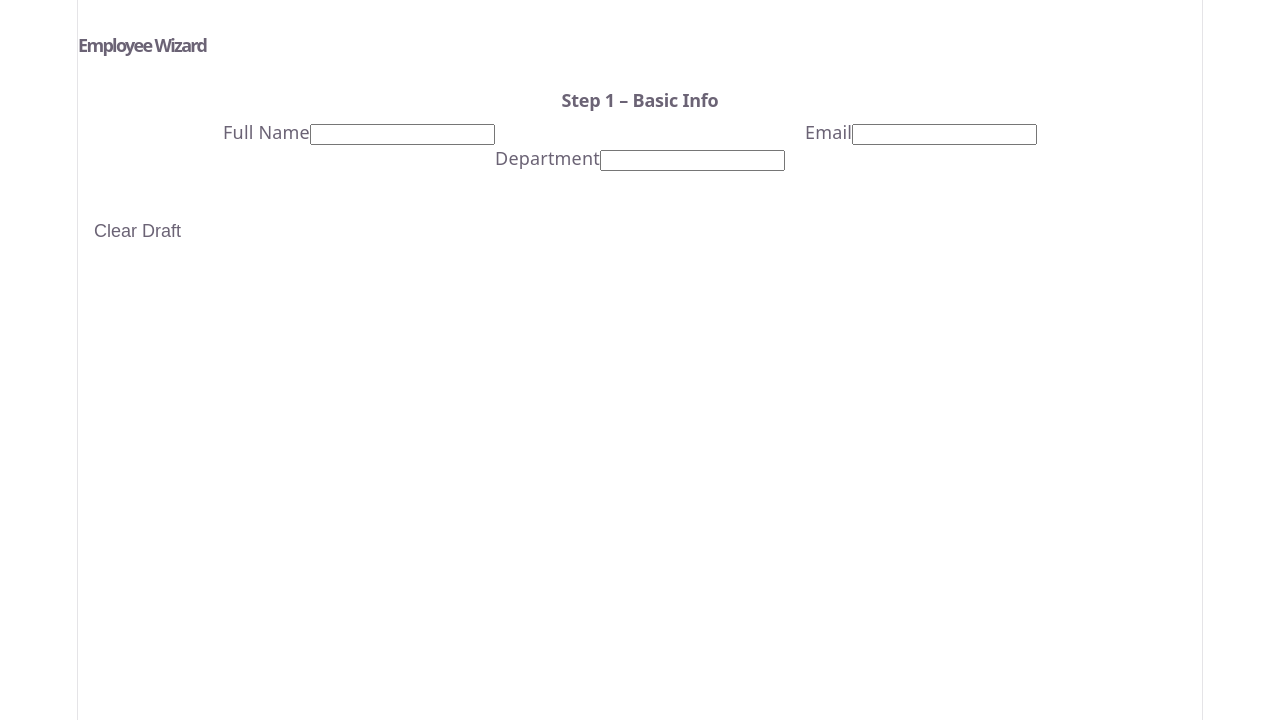
Test case: Submit flow › submits basicInfo then details and shows progress messages
The width and height of the screenshot is (1280, 720).
Fill Step 1
In the field labelled "Full Name": x=402, y=135 [310,124,495,145], type "John Doe"
In the field labelled "Email": x=945, y=135 [852,124,1037,145], type "john@example.com"
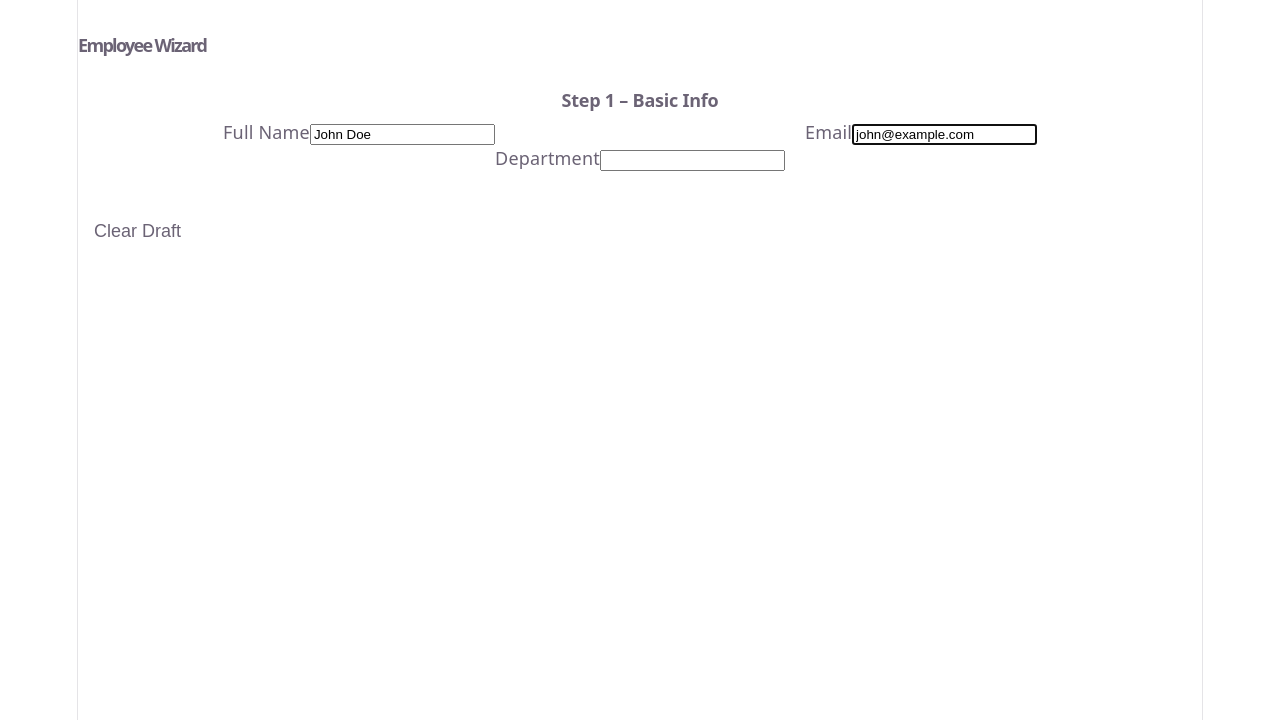
In the field labelled "Department": x=692, y=161 [600,150,785,171], type "Engineering"
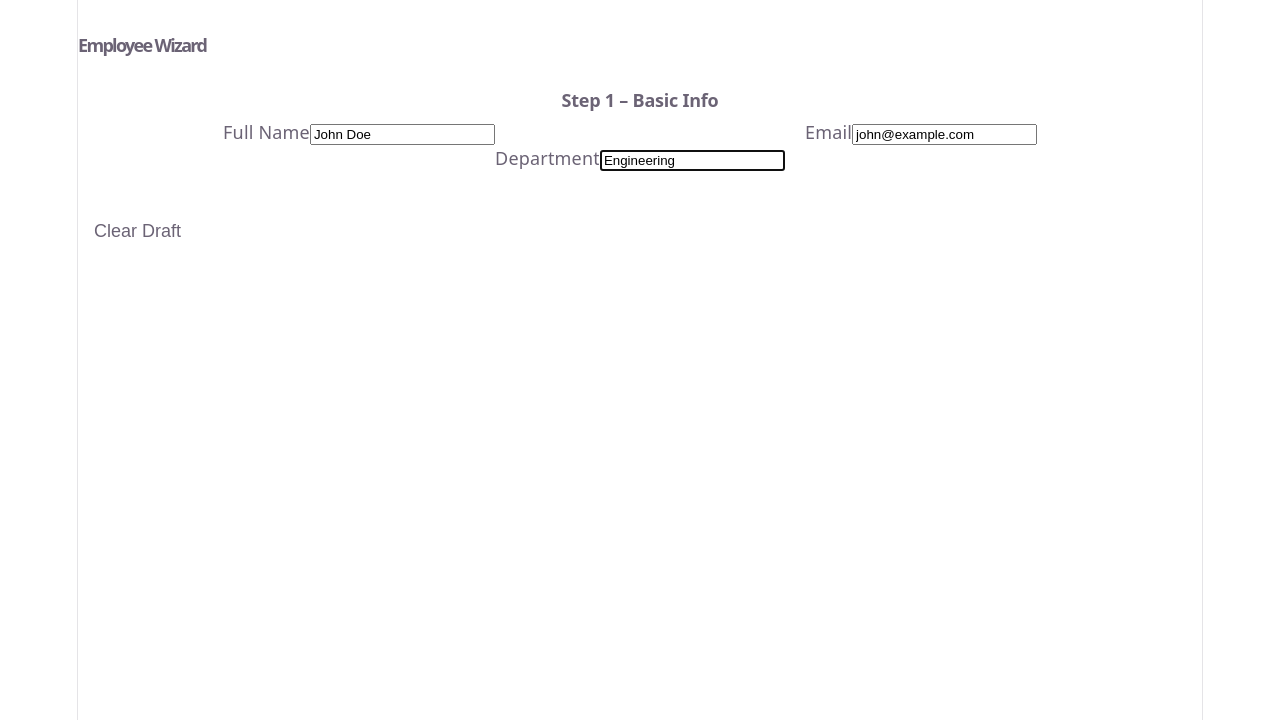
Click the button "Next": x=1150, y=192 [1099,172,1202,212]
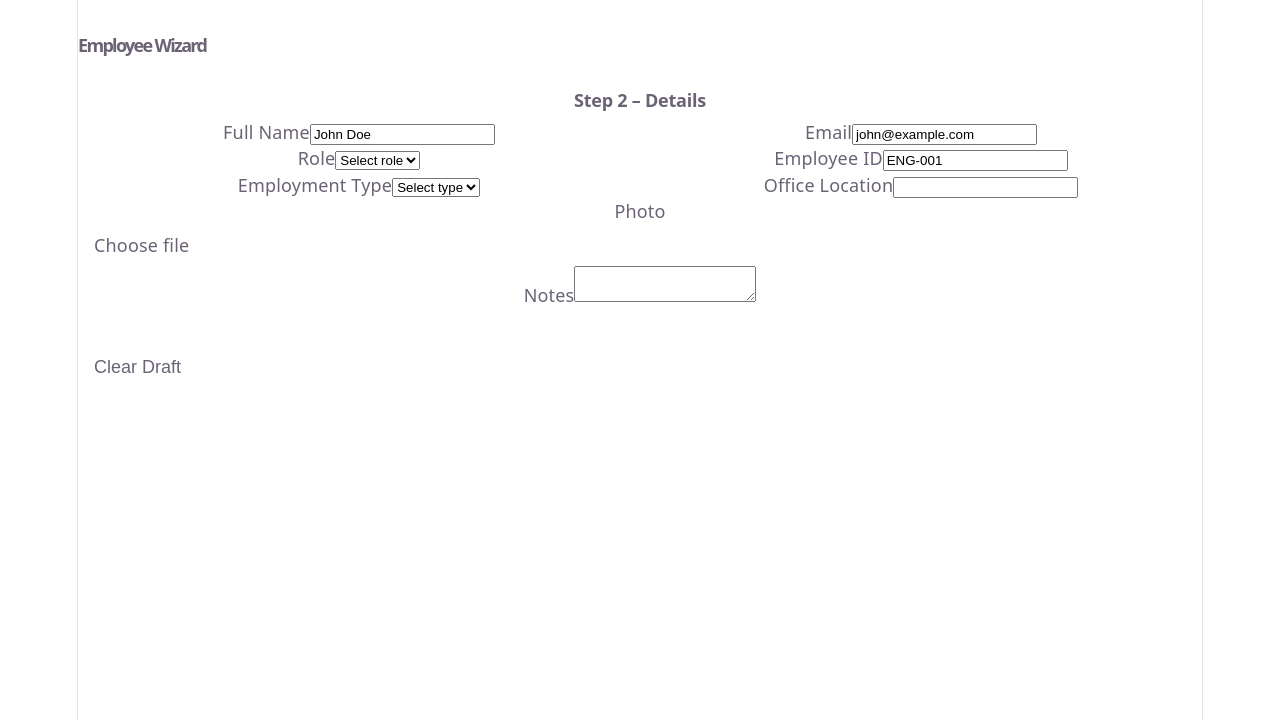
Fill Step 2 minimal valid fields
Select "Ops" in the dropdown labelled "Role": x=378, y=161 [335,151,420,170]
Select "Full-time" in the dropdown labelled "Employment Type": x=436, y=187 [392,178,480,196]
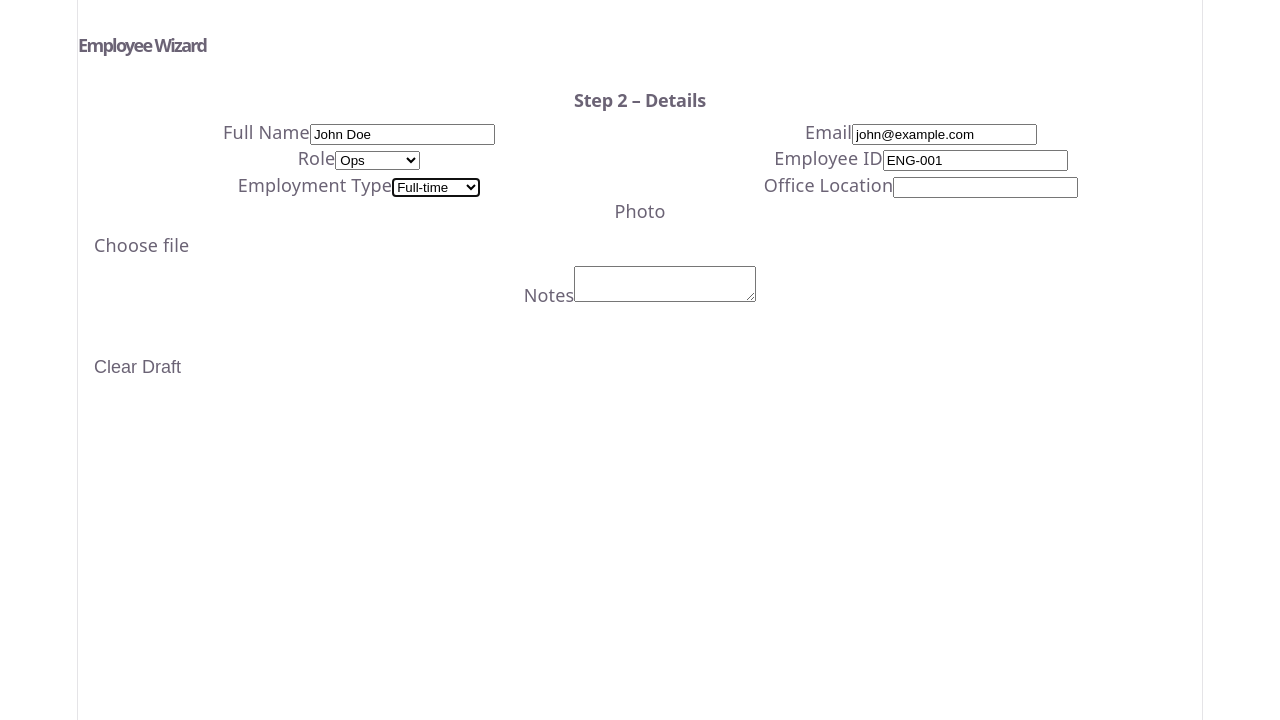
In the field labelled "Office Location": x=986, y=187 [893,176,1078,198], type "Jakarta"
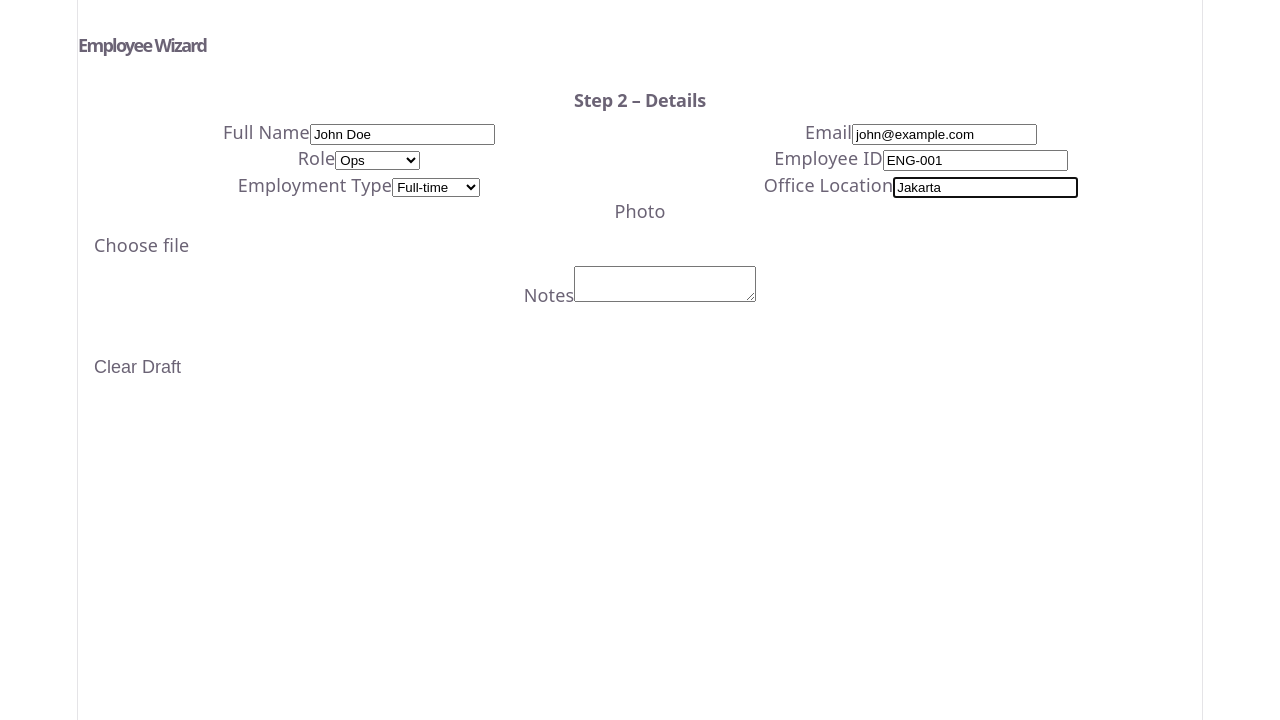
Click the button "Submit": x=1132, y=328 [1062,308,1202,349]
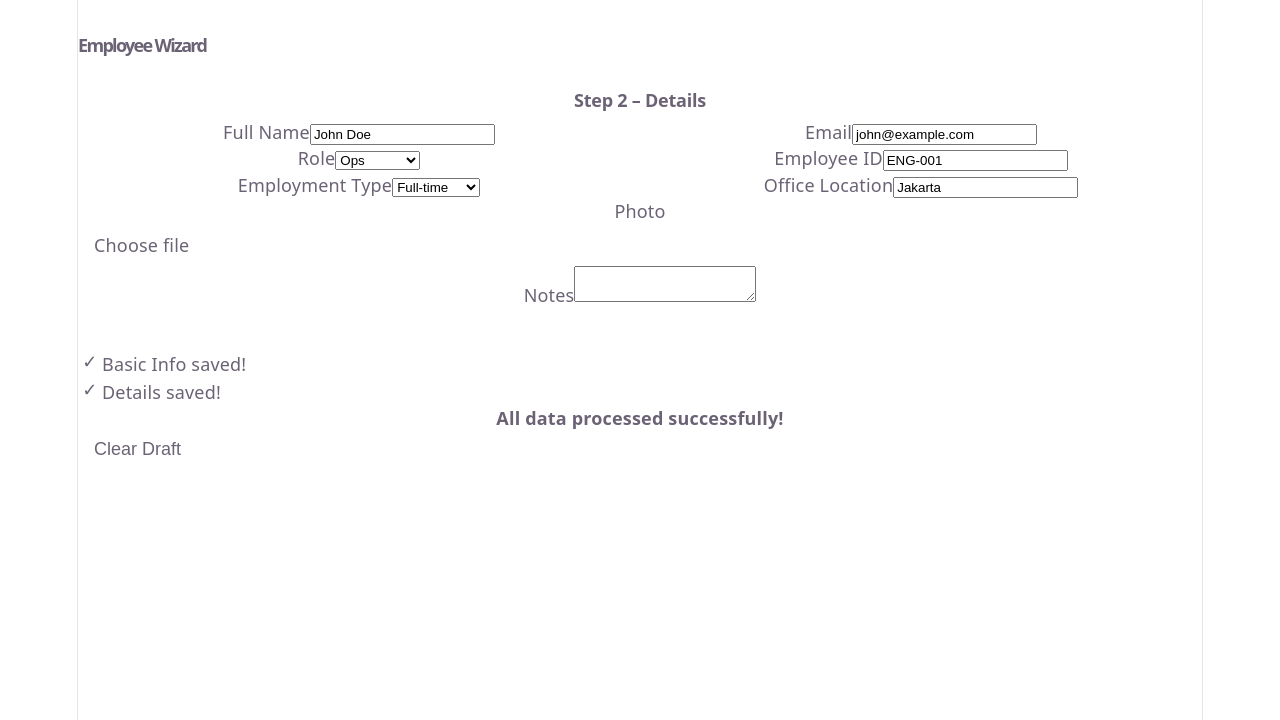
Expected: the text "Basic Info saved!" is shown, [102,349,246,377]
Expected: the text "Details saved!" is shown, [102,377,221,405]
Expected: the text "All data processed successfully!" is shown, [496,406,784,430]
